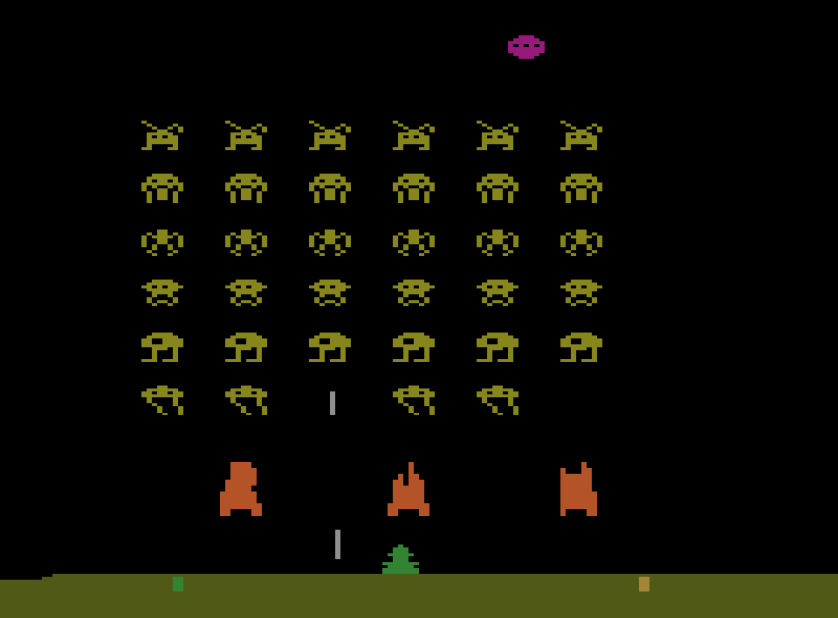bonus: (506, 34, 546, 61)
bullet: (333, 527, 343, 561), (328, 389, 337, 417)
invader1: (474, 118, 520, 152), (140, 118, 185, 152), (225, 118, 269, 152), (559, 118, 603, 152), (392, 118, 437, 151), (307, 119, 352, 151)
invader2: (139, 171, 185, 205), (224, 171, 270, 205), (307, 170, 353, 204), (558, 170, 604, 204), (475, 171, 520, 205), (392, 170, 436, 204)
invader3: (225, 227, 270, 259), (139, 229, 185, 259), (474, 228, 520, 258), (307, 228, 352, 258), (390, 228, 436, 257), (558, 228, 603, 257)
invader4: (558, 276, 604, 308), (391, 278, 437, 309), (225, 277, 269, 308), (475, 278, 520, 308), (140, 278, 184, 308), (308, 278, 352, 308)
invader5: (139, 330, 185, 365), (557, 330, 604, 364), (307, 329, 352, 364), (224, 330, 270, 364), (392, 329, 436, 364), (475, 330, 520, 364)
invader6: (391, 383, 438, 417), (224, 383, 269, 417), (475, 383, 520, 417), (141, 384, 185, 416)
player: (381, 543, 420, 575)
